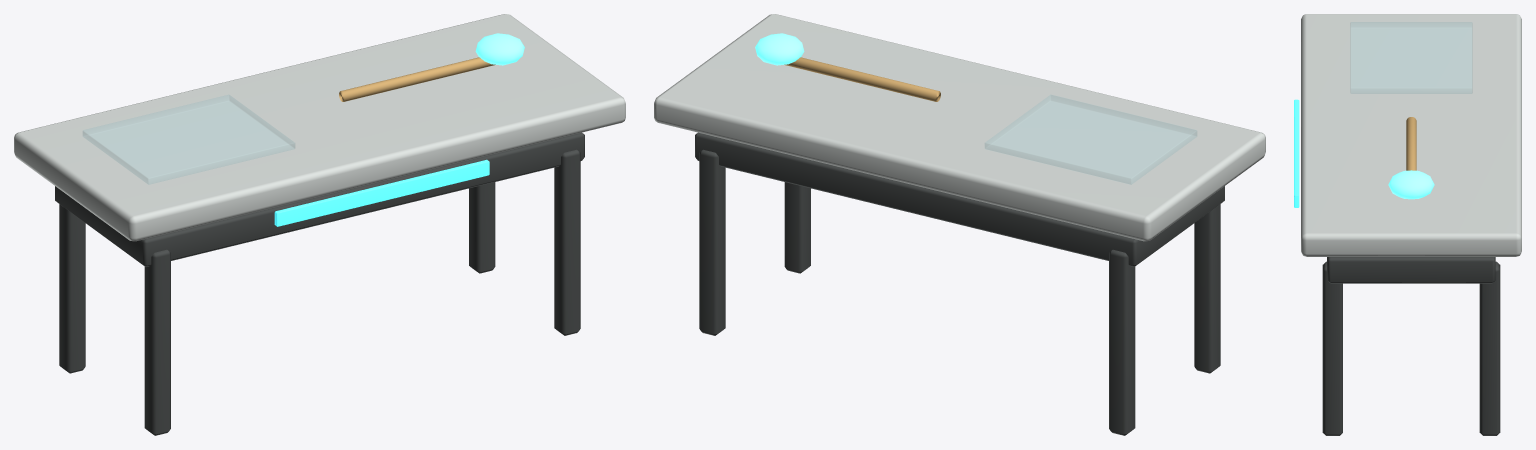
File: hp_furniture_lab_table_v1.glb
3 renders of one model, left to right at view 1: azimuth 30°, elevation 25°; view 2: azimuth 150°, elevation 25°; view 3: azimuth 270°, elevation 25°, orthographic. The views are drawn at different scales.
Parts seen in each view (by area): view 1: sterile_lab_tabletop, left_inset_glass_tray, dark_underframe, lab_table_leg.002, lab_table_leg, lab_table_leg.001, front_control_strip, lab_table_leg.003, small_probe_bar, cyan_sample_core; view 2: sterile_lab_tabletop, dark_underframe, left_inset_glass_tray, lab_table_leg.003, lab_table_leg.001, lab_table_leg, lab_table_leg.002, small_probe_bar, cyan_sample_core; view 3: sterile_lab_tabletop, left_inset_glass_tray, dark_underframe, lab_table_leg.003, lab_table_leg.002, cyan_sample_core, front_control_strip, small_probe_bar.
Boxes of the visible parts, x1=… form: sterile_lab_tabletop: x1=14, y1=14, x2=625, y2=241; left_inset_glass_tray: x1=83, y1=95, x2=294, y2=184; dark_underframe: x1=55, y1=132, x2=584, y2=266; lab_table_leg.002: x1=554, y1=149, x2=580, y2=335; lab_table_leg: x1=144, y1=249, x2=170, y2=435; lab_table_leg.001: x1=59, y1=204, x2=85, y2=373; front_control_strip: x1=274, y1=159, x2=489, y2=226; lab_table_leg.003: x1=469, y1=182, x2=495, y2=273; small_probe_bar: x1=339, y1=57, x2=495, y2=101; cyan_sample_core: x1=475, y1=33, x2=524, y2=65; sterile_lab_tabletop: x1=654, y1=14, x2=1265, y2=241; dark_underframe: x1=695, y1=132, x2=1224, y2=266; left_inset_glass_tray: x1=985, y1=95, x2=1196, y2=184; lab_table_leg.003: x1=699, y1=149, x2=725, y2=335; lab_table_leg.001: x1=1109, y1=249, x2=1135, y2=435; lab_table_leg: x1=1194, y1=204, x2=1220, y2=373; lab_table_leg.002: x1=784, y1=182, x2=810, y2=273; small_probe_bar: x1=784, y1=57, x2=940, y2=101; cyan_sample_core: x1=755, y1=33, x2=804, y2=65; sterile_lab_tabletop: x1=1301, y1=14, x2=1521, y2=256; left_inset_glass_tray: x1=1350, y1=22, x2=1472, y2=93; dark_underframe: x1=1327, y1=257, x2=1495, y2=283; lab_table_leg.003: x1=1479, y1=261, x2=1500, y2=435; lab_table_leg.002: x1=1322, y1=261, x2=1342, y2=435; cyan_sample_core: x1=1388, y1=170, x2=1434, y2=199; front_control_strip: x1=1294, y1=99, x2=1299, y2=207; small_probe_bar: x1=1406, y1=117, x2=1416, y2=170.
Bounding box in the file's own units: 1.82 × 0.944 × 0.784.
